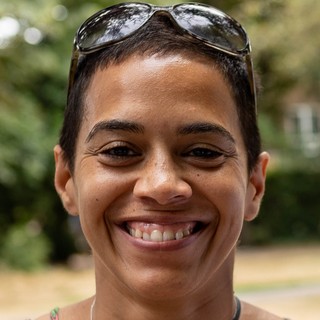eye: (178, 142, 229, 166), (94, 140, 142, 164)
